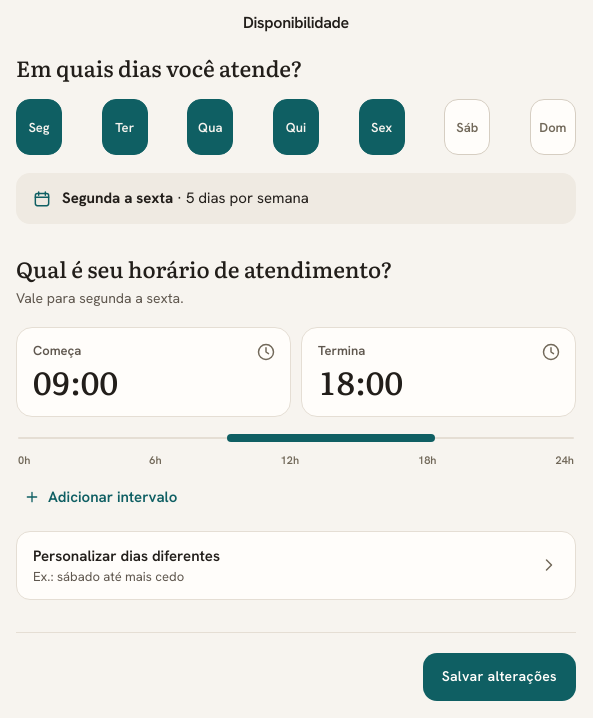
Test: o horário da semana como no onboarding › salvar mantém as regras inativas, avisa no status e no toast
Click the button "Salvar alterações" at (499, 677), box 423,653 -> 576,701
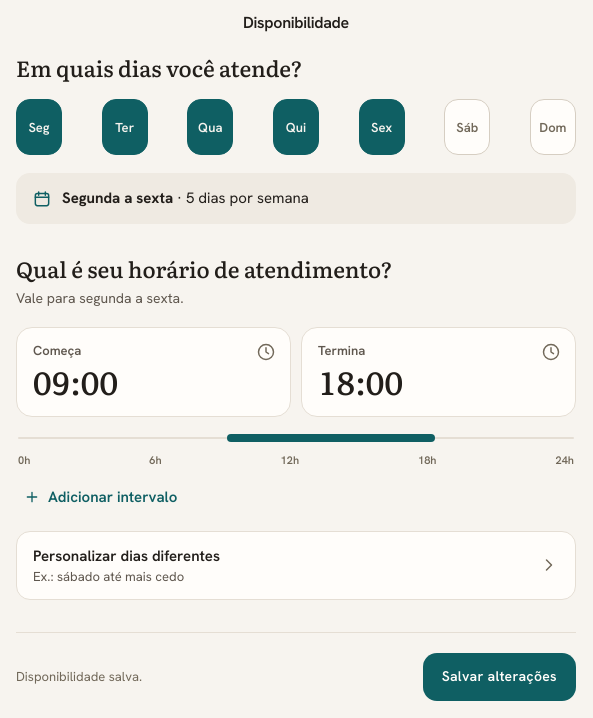
Now the message reads "Disponibilidade salva.", box 16,668 -> 142,685
